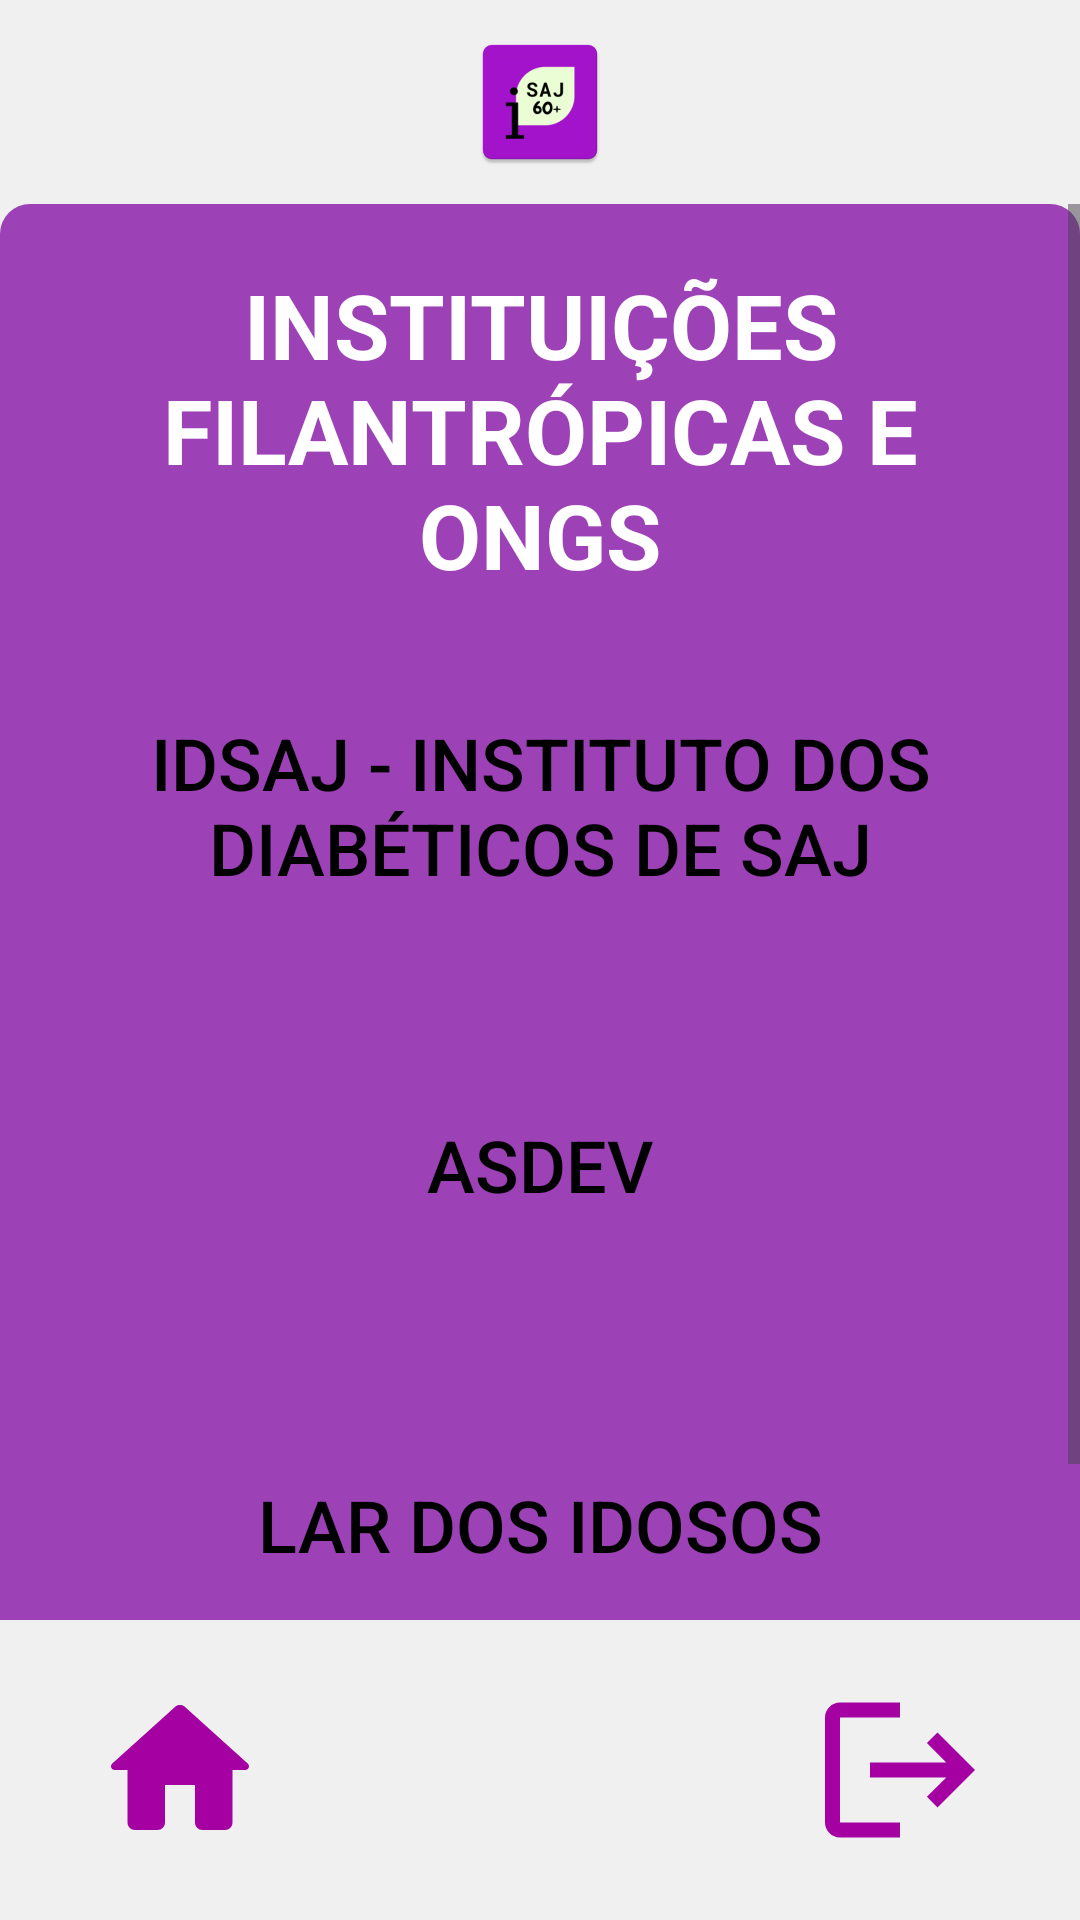

Locate icon controls on the screen. Image size 1080x1920, boxes as rect(x1, y1, x2, y2).
home: rect(111, 1705, 249, 1830)
